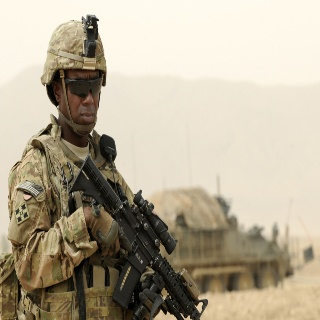rifle: (69, 154, 208, 320)
